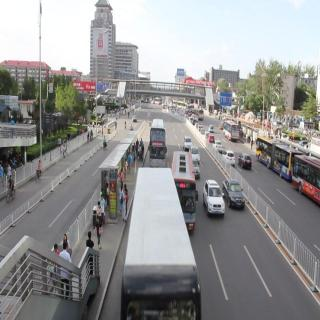BigCar: (117, 160, 209, 311), (167, 145, 206, 234), (252, 132, 298, 178), (296, 140, 320, 213), (148, 111, 169, 157), (224, 114, 243, 146)
Car: (202, 177, 226, 219), (228, 175, 248, 216), (239, 152, 252, 168), (180, 132, 193, 148)
